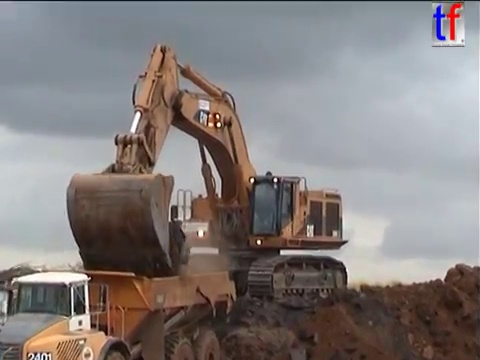excavator: (62, 40, 351, 310)
truck: (1, 262, 239, 360)
